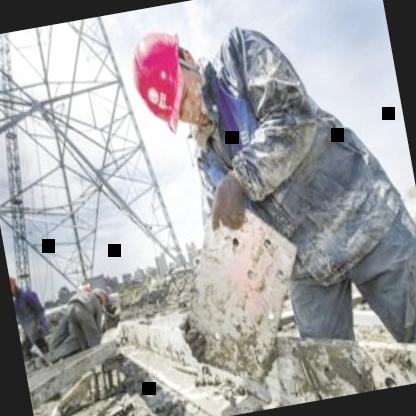helmet: (119, 16, 208, 151), (7, 265, 24, 303)
